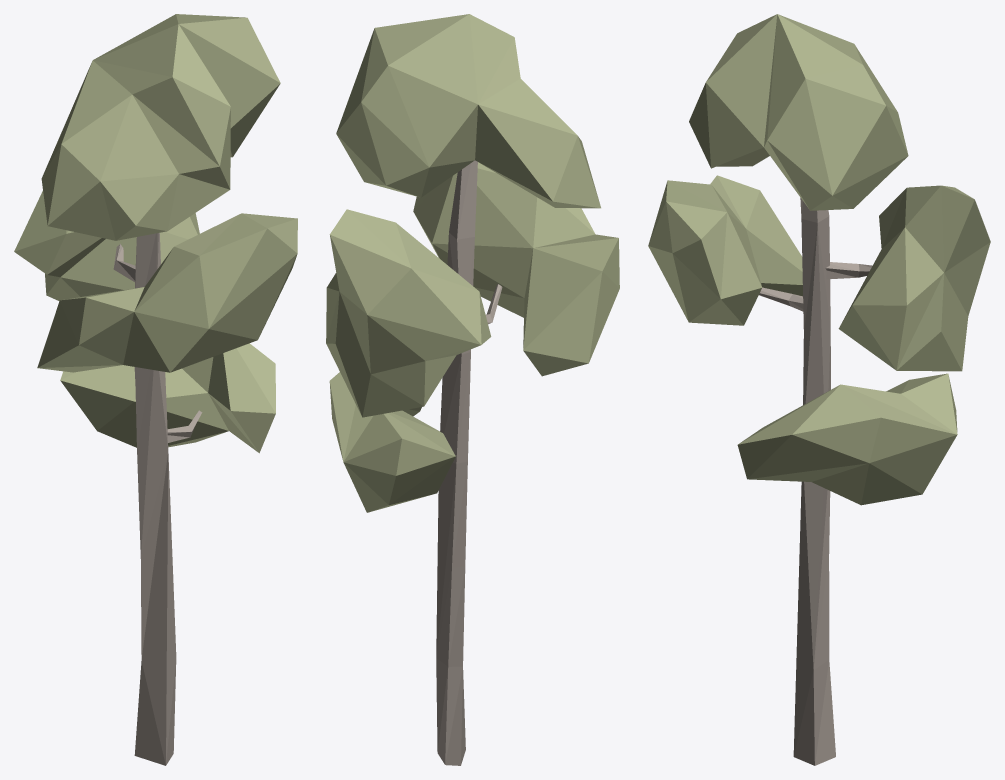
The model's file is PinusSylvestris.glb.
3 views of the same model, side by side, from view 1: azimuth 30°, elevation 25°; view 2: azimuth 150°, elevation 25°; view 3: azimuth 270°, elevation 25° (orthographic). The views are drawn at different scales.
Parts seen in each view (by area): view 1: Crown, Trunk; view 2: Crown, Trunk; view 3: Crown, Trunk.
Part boxes in pixels (left/top/right/bottom): Crown: left=14, top=14, right=297, bottom=453; Trunk: left=113, top=233, right=202, bottom=765; Crown: left=326, top=14, right=619, bottom=512; Trunk: left=436, top=160, right=502, bottom=765; Crown: left=648, top=14, right=990, bottom=505; Trunk: left=759, top=197, right=872, bottom=765.
Bounding box in the file's own units: 9.18 × 27.07 × 11.28.
